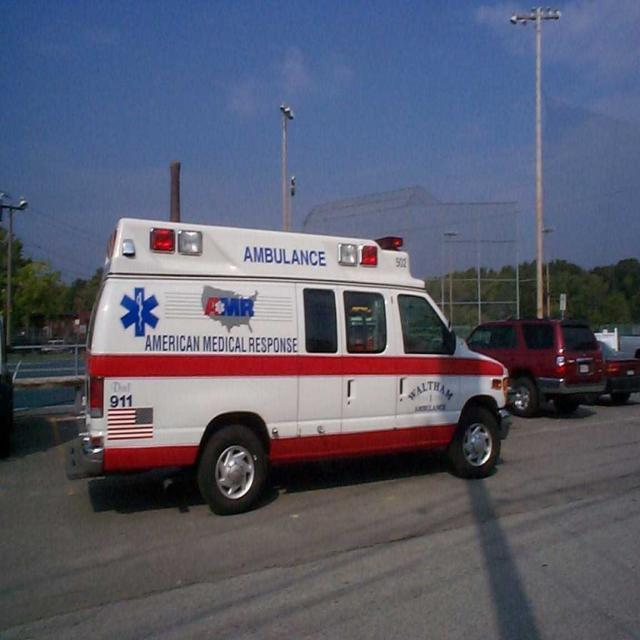emergency-vehicle: (53, 194, 520, 516)
